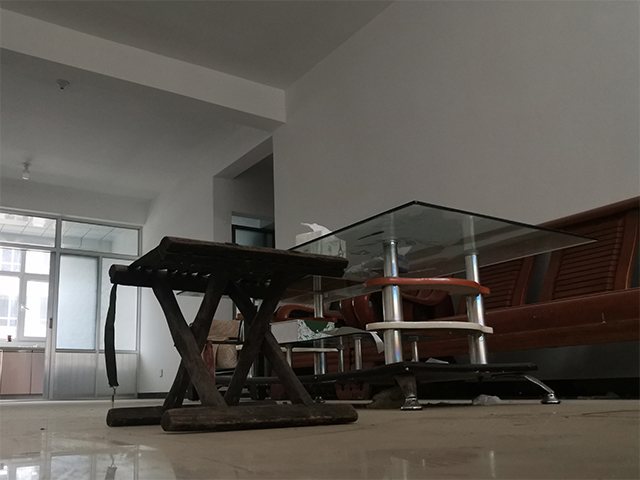stool: (102, 234, 360, 434)
table: (236, 198, 600, 412)
